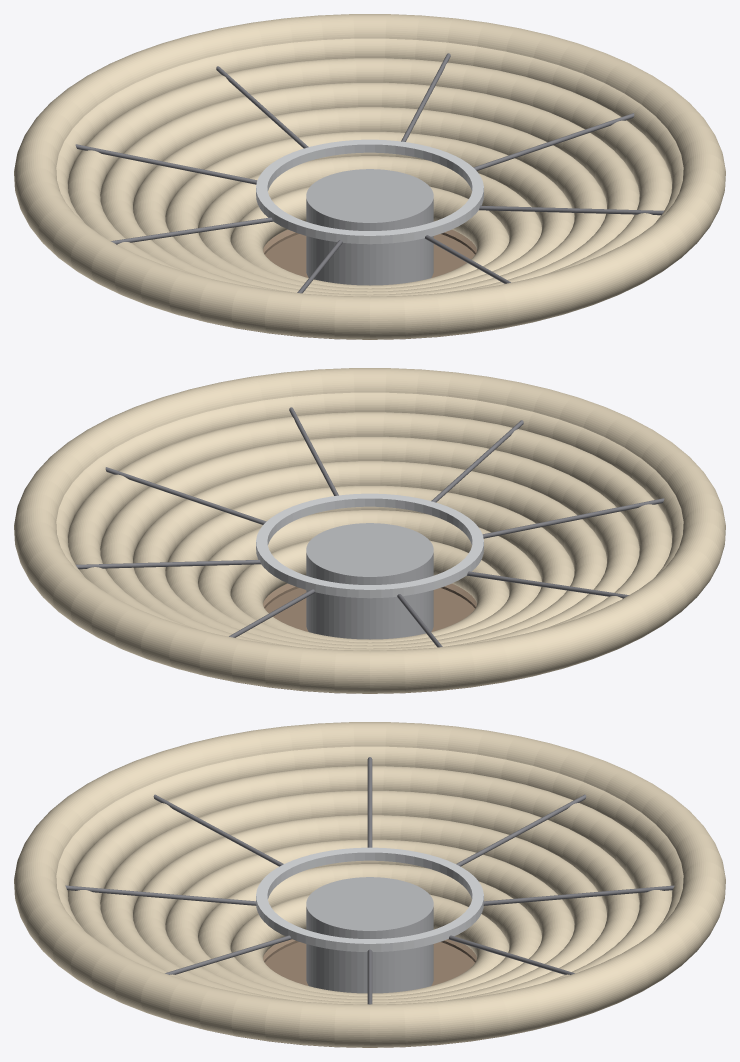
The model's file is stage06_hiad_l_deployed.glb.
The picture shows the model from 3 angles, top to bottom: view 1: azimuth 30°, elevation 25°; view 2: azimuth 150°, elevation 25°; view 3: azimuth 270°, elevation 25°; orthographic projection.
Parts seen in each view (by area): view 1: tori, centre_body, mount_ring, nose_cap, strap_3, strap_7, strap_0, strap_4, flexible_tps, strap_2; view 2: tori, centre_body, mount_ring, nose_cap, strap_5, strap_1, strap_0, strap_4, flexible_tps, strap_6; view 3: tori, centre_body, mount_ring, nose_cap, strap_2, strap_6, strap_3, strap_5, flexible_tps, strap_1, strap_7, strap_4.
Boxes of the visible parts, x1,y1,x2,y2 form: tori: (14,14,725,339); centre_body: (306,169,433,285); mount_ring: (256,139,483,244); nose_cap: (265,234,474,277); strap_3: (75,144,257,184); strap_7: (479,205,663,215); strap_0: (473,113,634,170); strap_4: (111,217,272,244); flexible_tps: (215,229,524,339); strap_2: (216,66,308,148); tori: (14,368,725,693); centre_body: (306,523,433,639); mount_ring: (256,493,483,598); nose_cap: (265,588,474,631); strap_5: (482,498,664,538); strap_1: (76,559,260,569); strap_0: (105,467,266,524); strap_4: (467,571,628,598); flexible_tps: (215,583,524,693); strap_6: (431,420,523,502); tori: (14,722,725,1047); centre_body: (306,877,433,993); mount_ring: (256,847,483,951); nose_cap: (265,942,474,985); strap_2: (483,885,674,905); strap_6: (65,885,256,905); strap_3: (456,794,586,866); strap_5: (153,794,283,866); flexible_tps: (215,939,524,1047); strap_1: (448,935,574,974); strap_7: (165,935,291,974); strap_4: (367,757,372,847).
Bounding box in the file's own units: 11.71 × 2.58 × 11.72.
